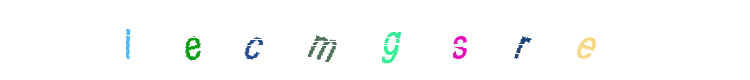C: (263, 0, 343, 80)
E: (152, 0, 232, 80), (546, 0, 626, 80)
G: (335, 0, 415, 80)
L: (87, 0, 167, 80)
M: (306, 0, 386, 80)
R: (420, 0, 500, 80)
S: (345, 0, 425, 80)
